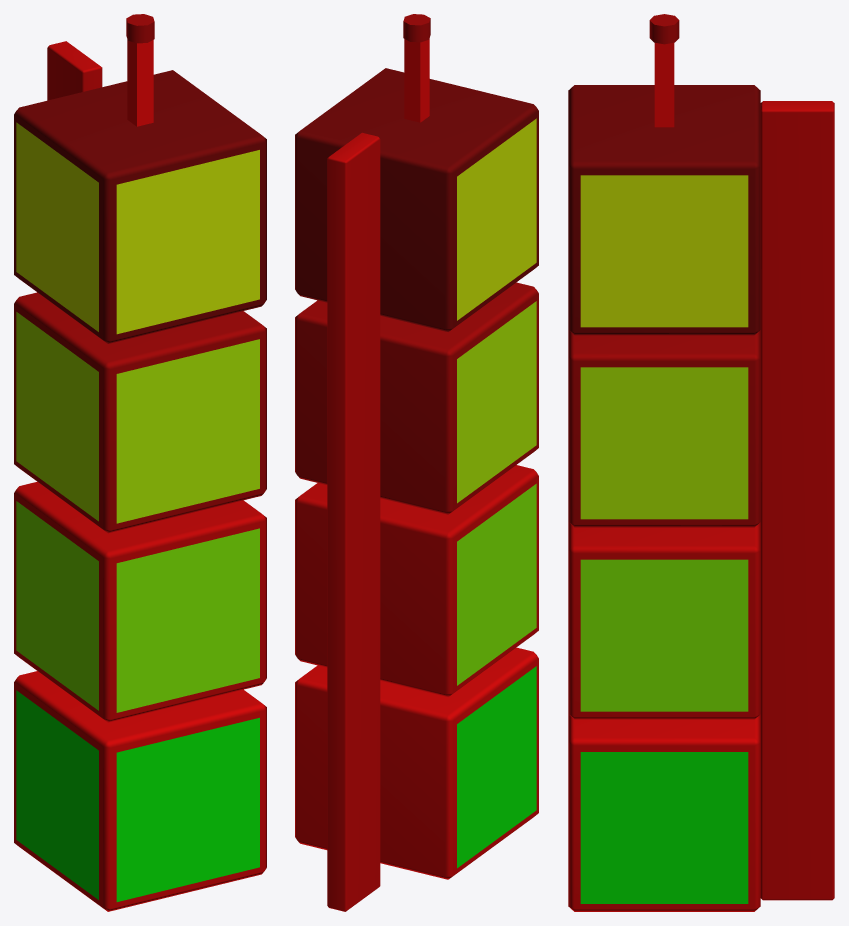
File: sign_blade_b.glb
The picture shows the model from 3 angles, left to right: view 1: azimuth 30°, elevation 25°; view 2: azimuth 150°, elevation 25°; view 3: azimuth 270°, elevation 25°; orthographic projection. The views are drawn at different scales.
Visible parts, largest first — view 1: sign_blade_b; view 2: sign_blade_b; view 3: sign_blade_b.
Boxes of the visible parts, left/top/right/bottom form: sign_blade_b: left=14, top=14, right=266, bottom=911; sign_blade_b: left=295, top=14, right=538, bottom=911; sign_blade_b: left=568, top=14, right=834, bottom=911.
Bounding box in the file's own units: 0.788 × 3.92 × 1.08.
